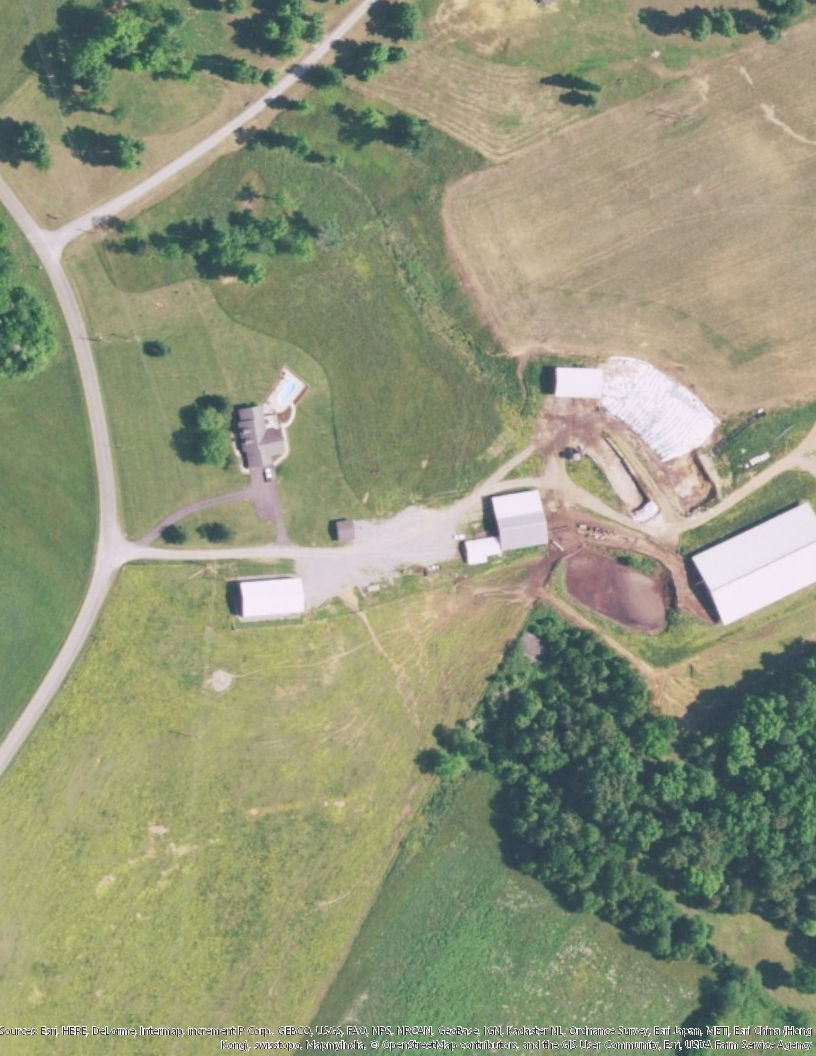cafo: (686, 491, 815, 628)
